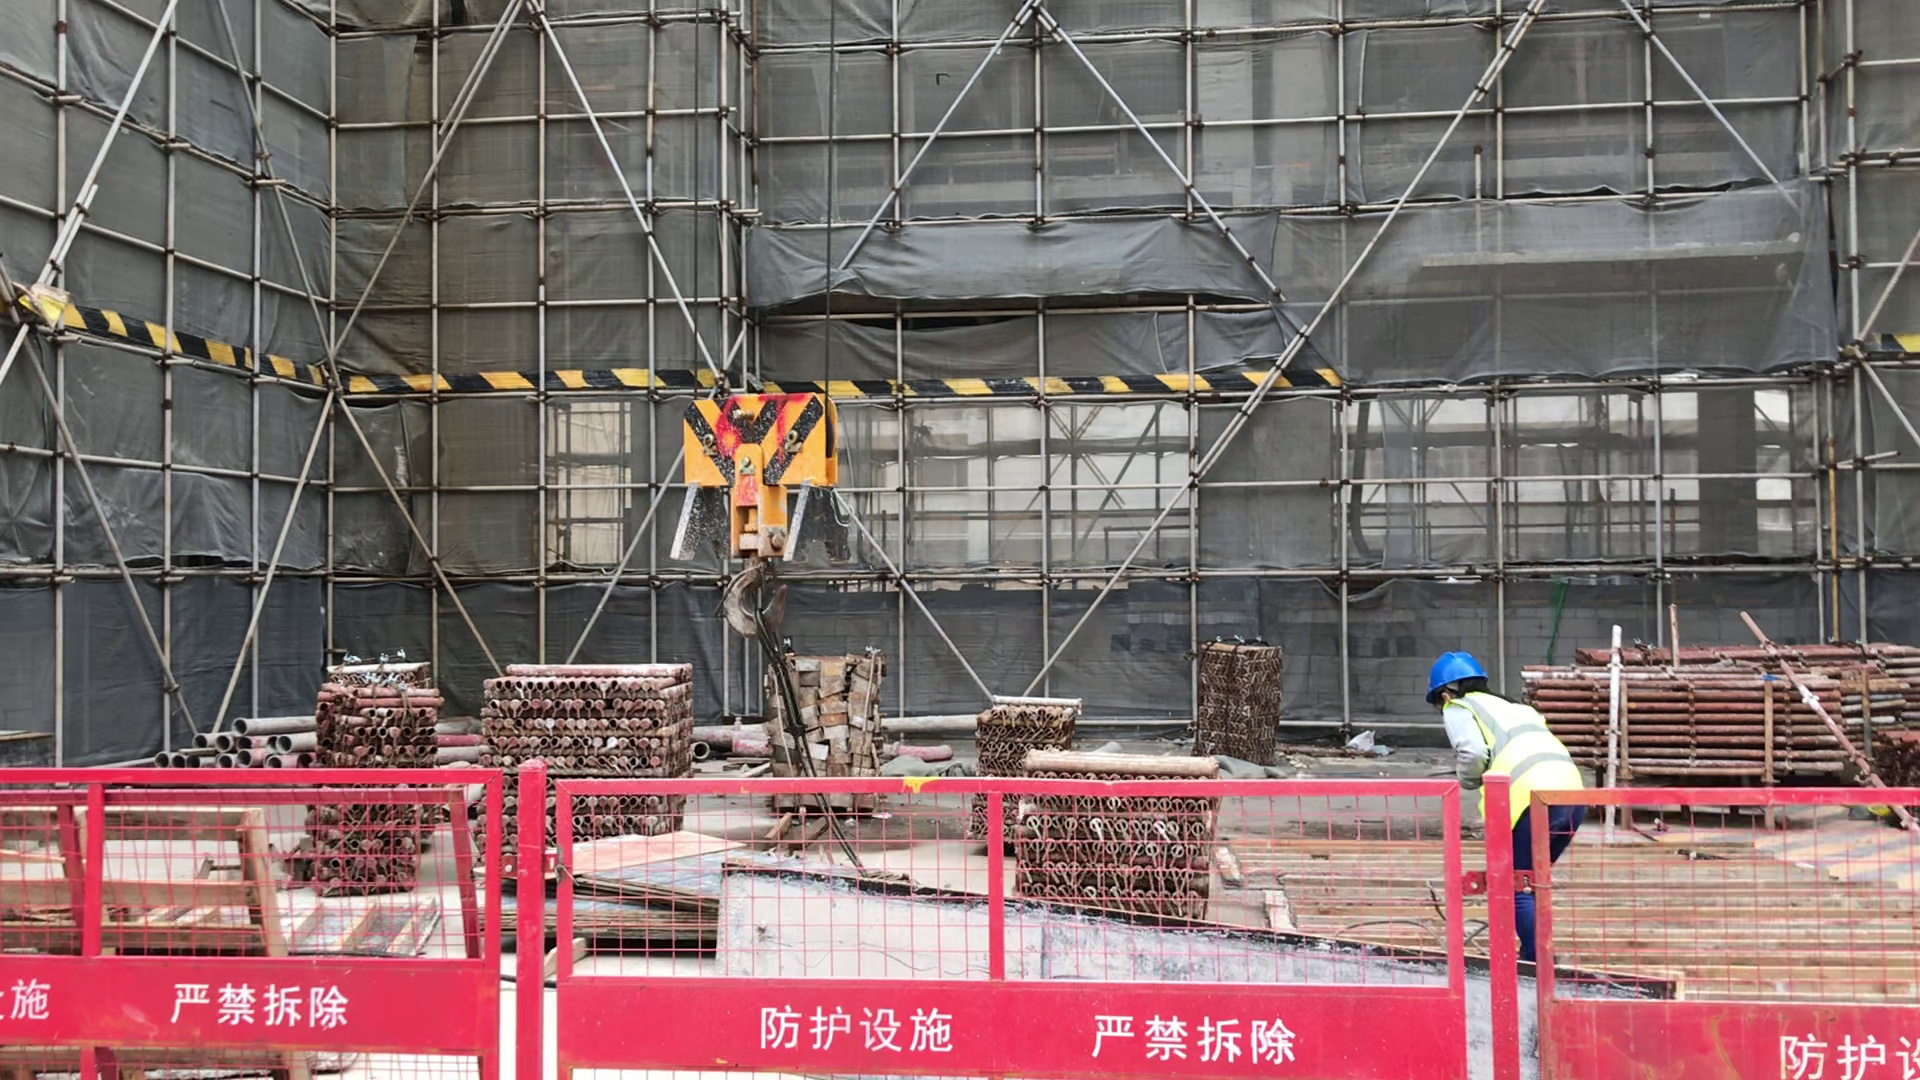fence: (2, 758, 1920, 1079)
helmet: (1426, 650, 1488, 702)
hook: (680, 394, 841, 635)
person: (1417, 652, 1581, 968)
scaffold: (303, 660, 695, 871), (1526, 624, 1918, 783), (974, 697, 1222, 933), (1206, 641, 1285, 761)
vest: (1440, 693, 1581, 836)
